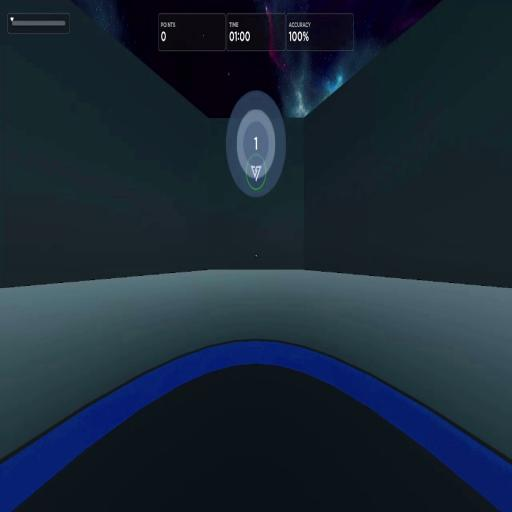Crosshair: (255, 254, 257, 258)
